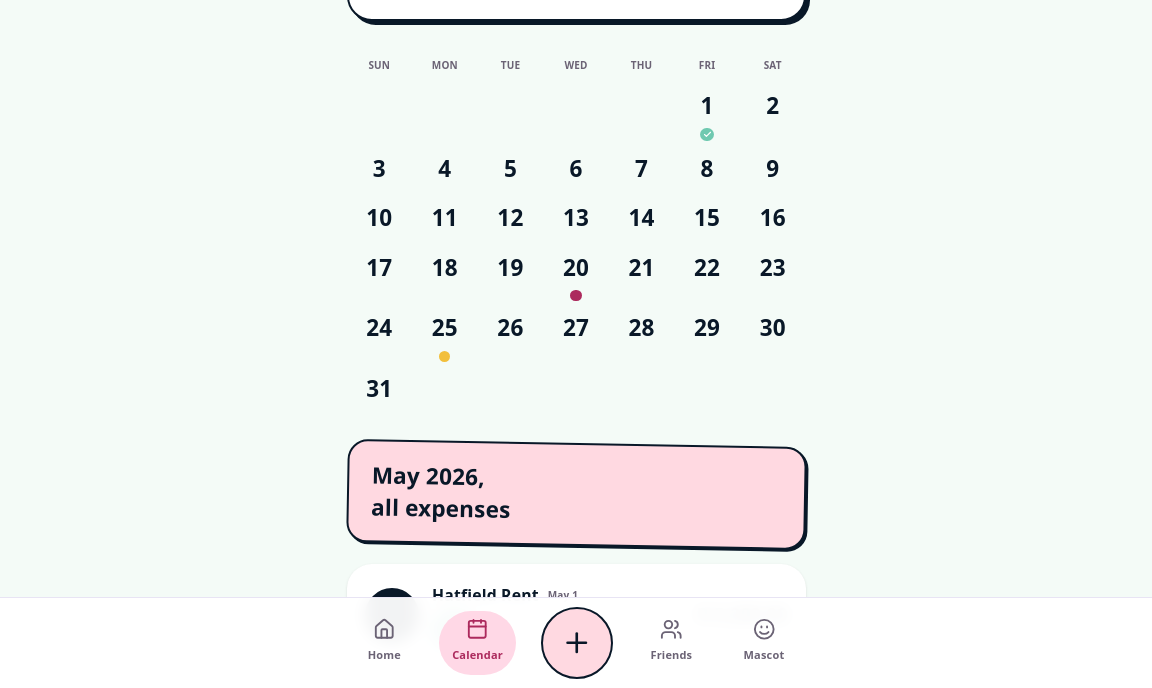
Test case: CalendarPage › switches to single-date view when a date is clicked
(page scrolled)
Click the button named "May 25": {"x": 445, "y": 328} [422, 306, 467, 350]
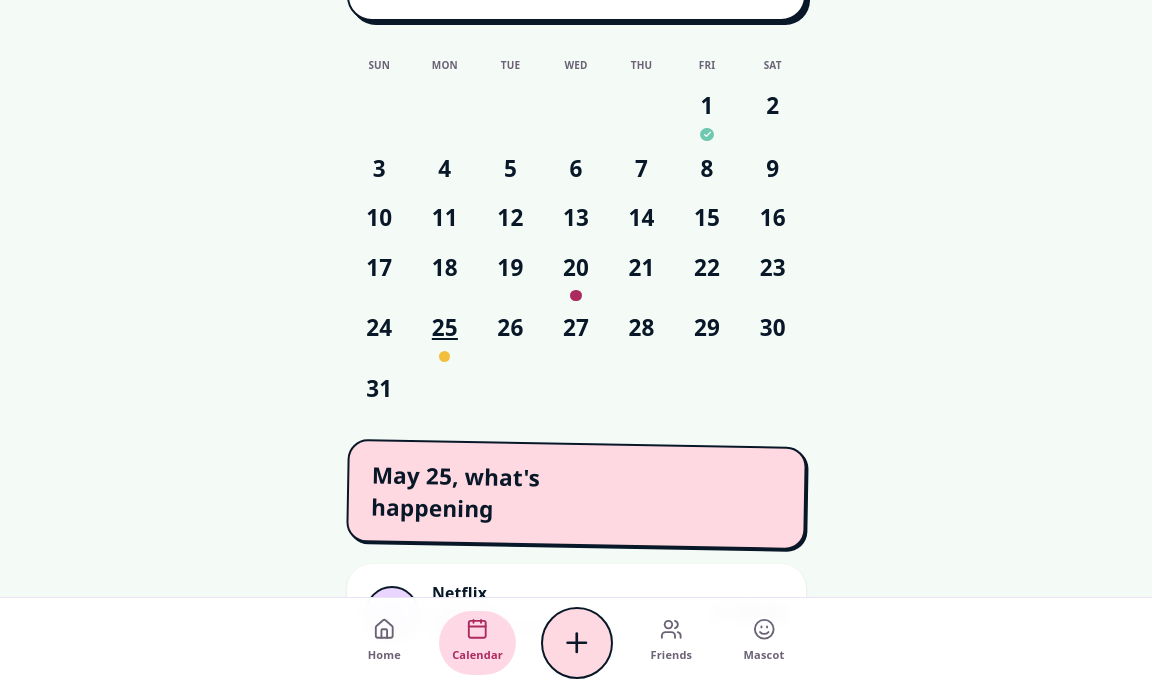
Expected: the text "May 25, what's" is shown, [370, 459, 540, 524]
